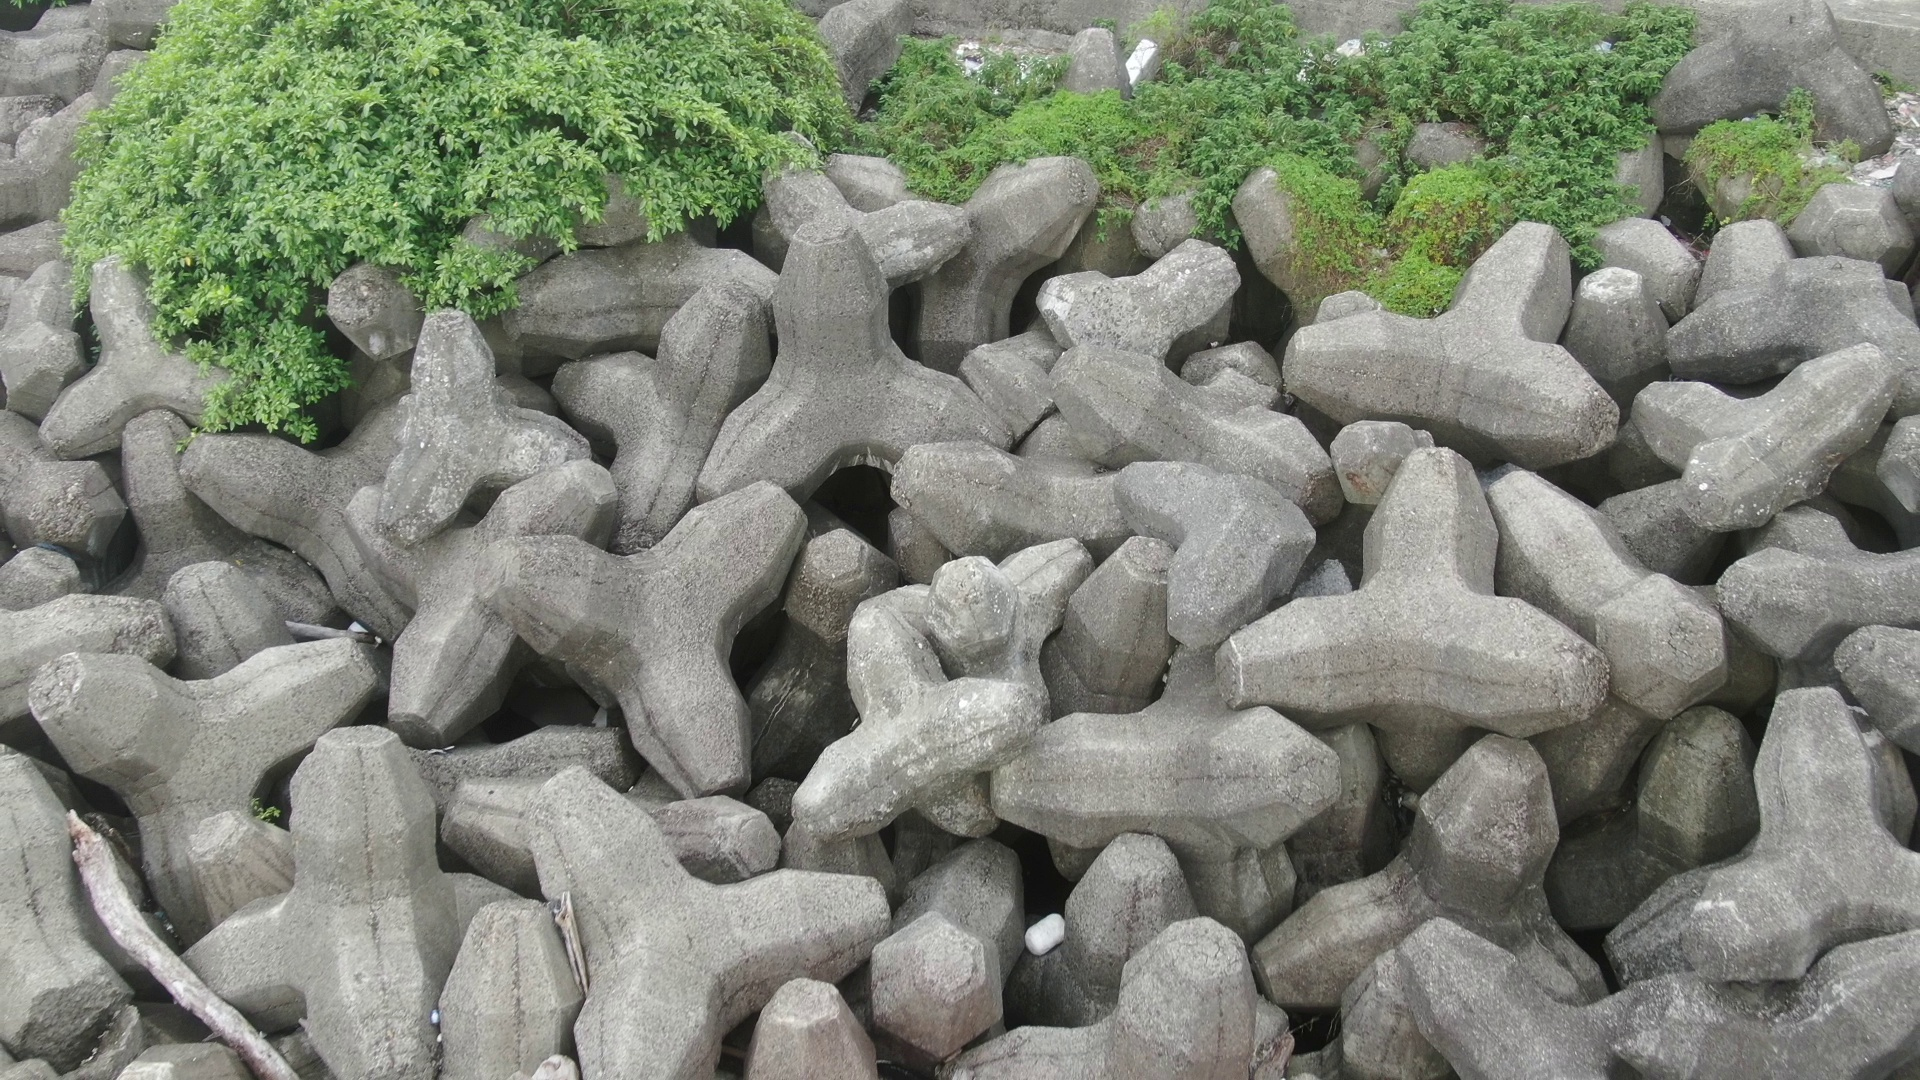garbage: (1011, 902, 1071, 953)
